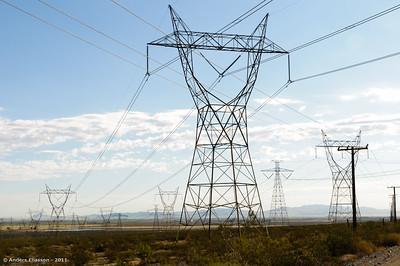power_tower: (145, 7, 283, 246), (312, 126, 366, 230), (260, 157, 295, 225), (36, 181, 85, 226), (152, 181, 183, 227)
